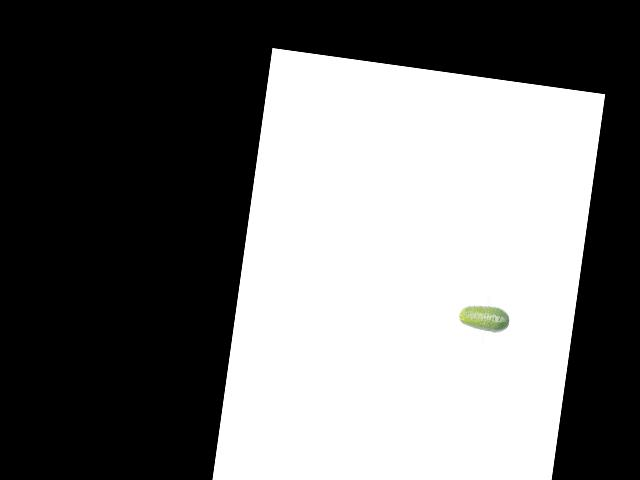cucumber: (457, 301, 511, 334)
